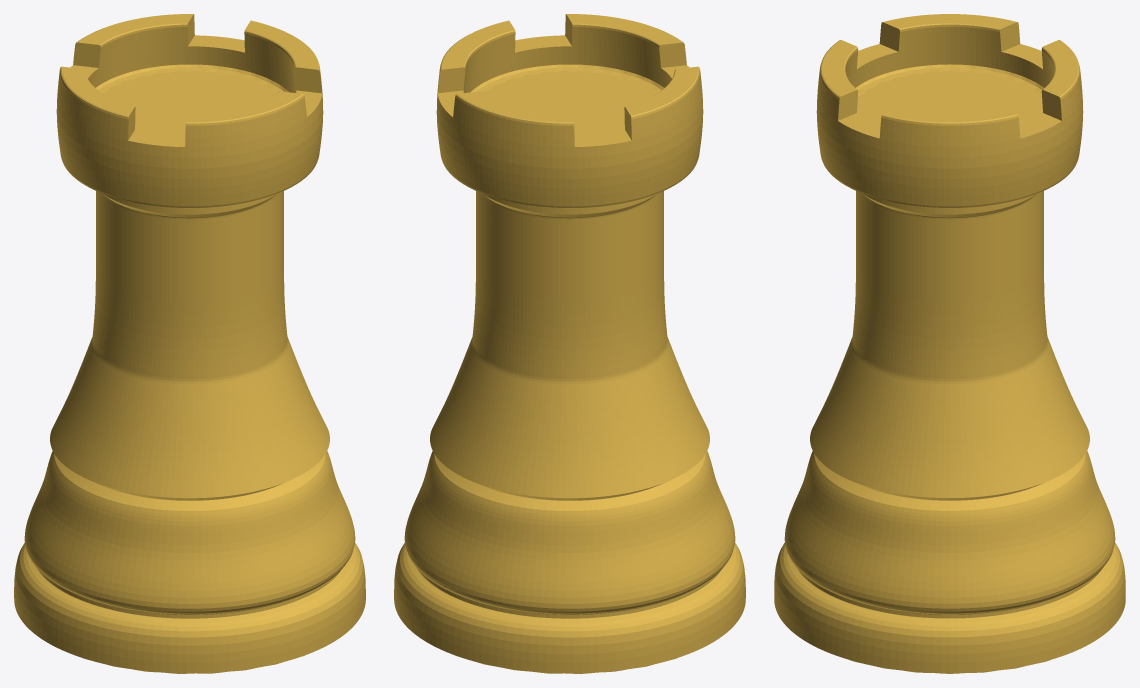
The model's file is gold_rook.fbx.
3 views of the same model, side by side, from view 1: azimuth 30°, elevation 25°; view 2: azimuth 150°, elevation 25°; view 3: azimuth 270°, elevation 25° (orthographic).
Parts seen in each view (by area): view 1: Cylinder; view 2: Cylinder; view 3: Cylinder.
Part boxes in pixels (x1=…): Cylinder: x1=14, y1=14, x2=365, y2=673; Cylinder: x1=394, y1=14, x2=745, y2=673; Cylinder: x1=774, y1=14, x2=1125, y2=673.
Size of the model in its own units: 4.45 by 7.44 by 4.45.
